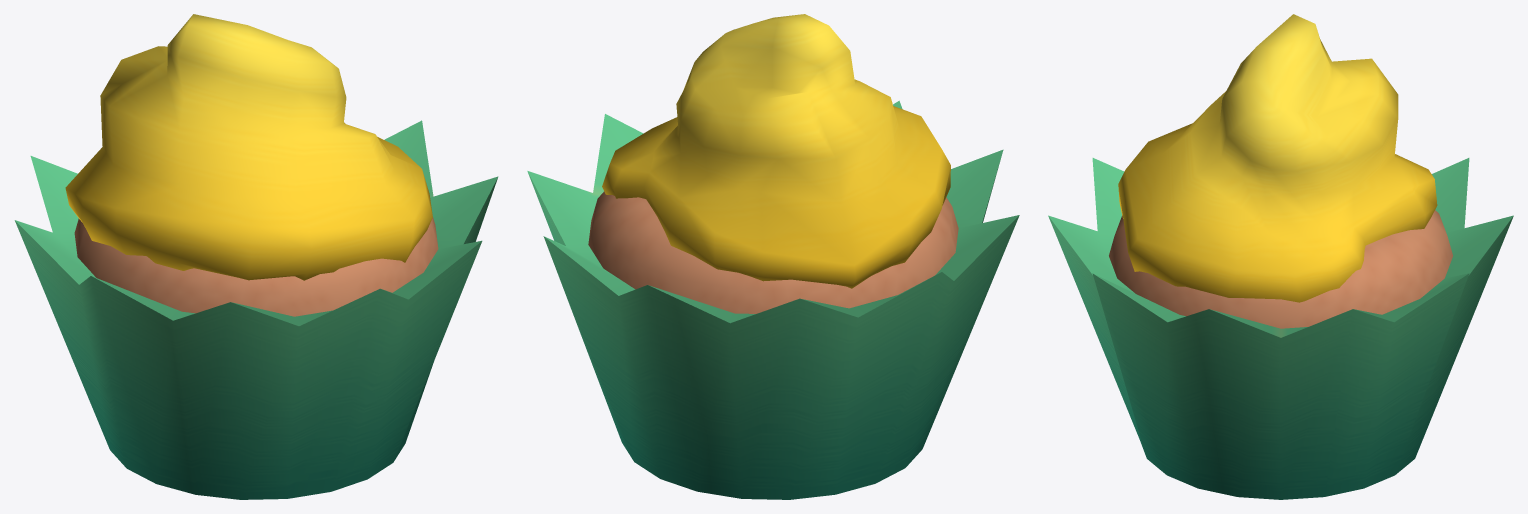
Rendered from SM_CUPCAKE_03.fbx.
The picture shows the model from 3 angles, left to right: view 1: azimuth 30°, elevation 25°; view 2: azimuth 150°, elevation 25°; view 3: azimuth 270°, elevation 25°; orthographic projection. The views are drawn at different scales.
Parts seen in each view (by area): view 1: CUPCAKE_03; view 2: CUPCAKE_03; view 3: CUPCAKE_03.
Part boxes in pixels (x1=…): CUPCAKE_03: x1=14, y1=14, x2=498, y2=499; CUPCAKE_03: x1=527, y1=14, x2=1019, y2=499; CUPCAKE_03: x1=1048, y1=14, x2=1513, y2=499.
Bounding box in the file's own units: 152 × 151 × 160.
Materials: 1 (1 with a texture image).
